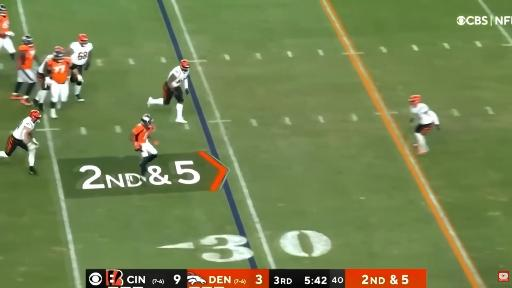Helmet: (408, 96, 421, 108), (141, 114, 152, 127), (29, 110, 41, 121), (22, 35, 33, 45), (0, 3, 8, 16), (78, 34, 88, 44), (55, 50, 63, 62), (180, 60, 189, 69)
Jersey: (47, 58, 71, 83), (12, 117, 35, 140), (70, 42, 92, 65), (411, 103, 433, 124), (168, 66, 189, 86), (132, 124, 154, 143), (19, 45, 35, 69), (38, 55, 53, 73), (0, 15, 9, 38)
Player: (147, 60, 189, 123), (0, 110, 41, 174), (44, 51, 82, 118), (11, 35, 38, 105), (409, 95, 439, 154), (131, 114, 157, 179), (34, 54, 53, 112), (70, 34, 92, 74), (0, 4, 15, 59)
